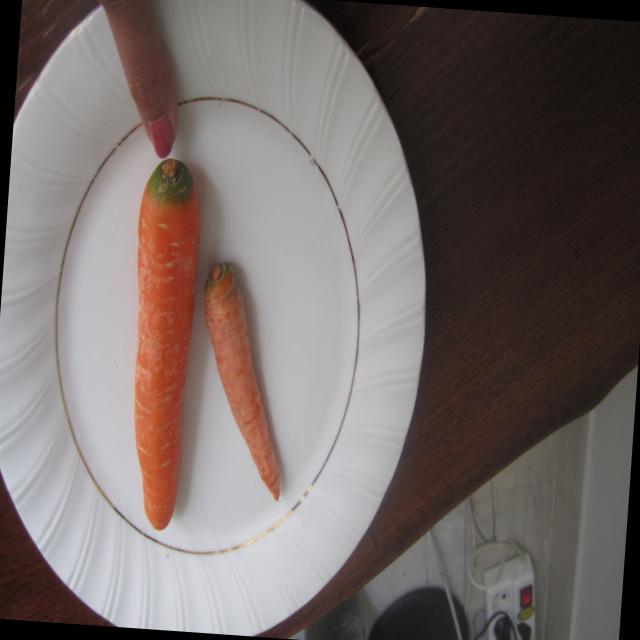Carrot: (120, 153, 208, 543), (190, 248, 300, 508)
Finger: (119, 23, 191, 167)
